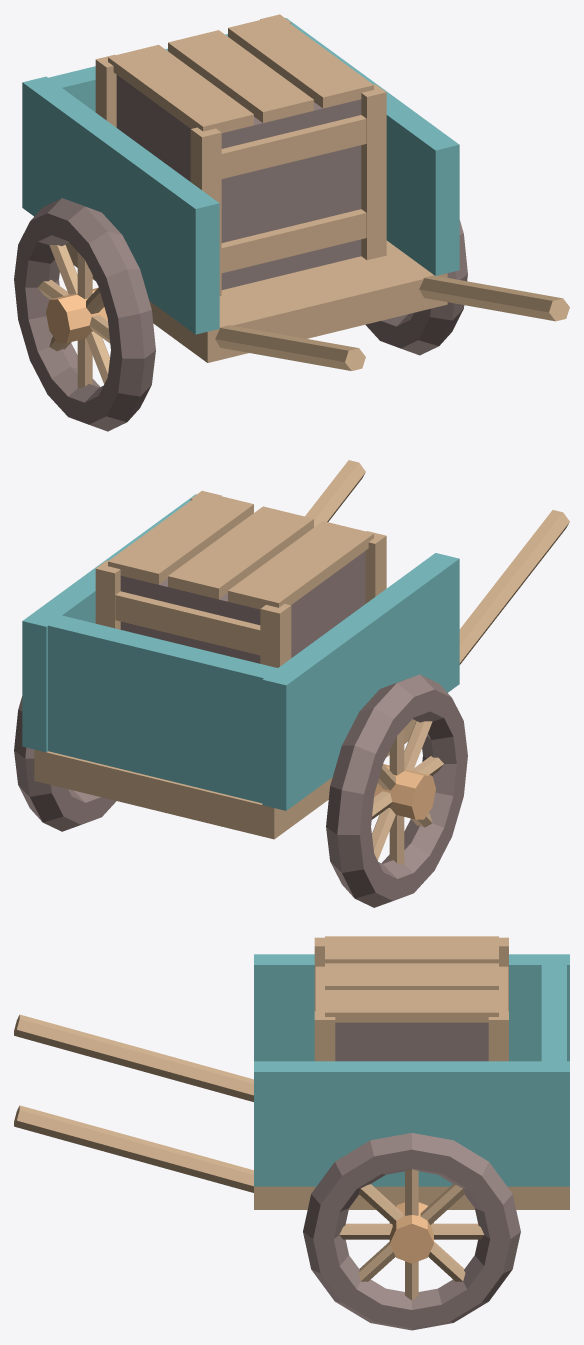
File: meadow-courier-hand-parcel-cart__39.glb
3 renders of one model, top to bottom at view 1: azimuth 30°, elevation 25°; view 2: azimuth 150°, elevation 25°; view 3: azimuth 270°, elevation 25°, orthographic. The views are drawn at different scales.
Visible parts, largest first — view 1: meadow-courier-parcel-cart; view 2: meadow-courier-parcel-cart; view 3: meadow-courier-parcel-cart.
Boxes of the visible parts, x1,y1,x2,y2 form: meadow-courier-parcel-cart: (14, 14, 569, 431); meadow-courier-parcel-cart: (14, 460, 569, 907); meadow-courier-parcel-cart: (14, 936, 569, 1330).
Bounding box in the file's own units: 1.22 × 1 × 1.76.
